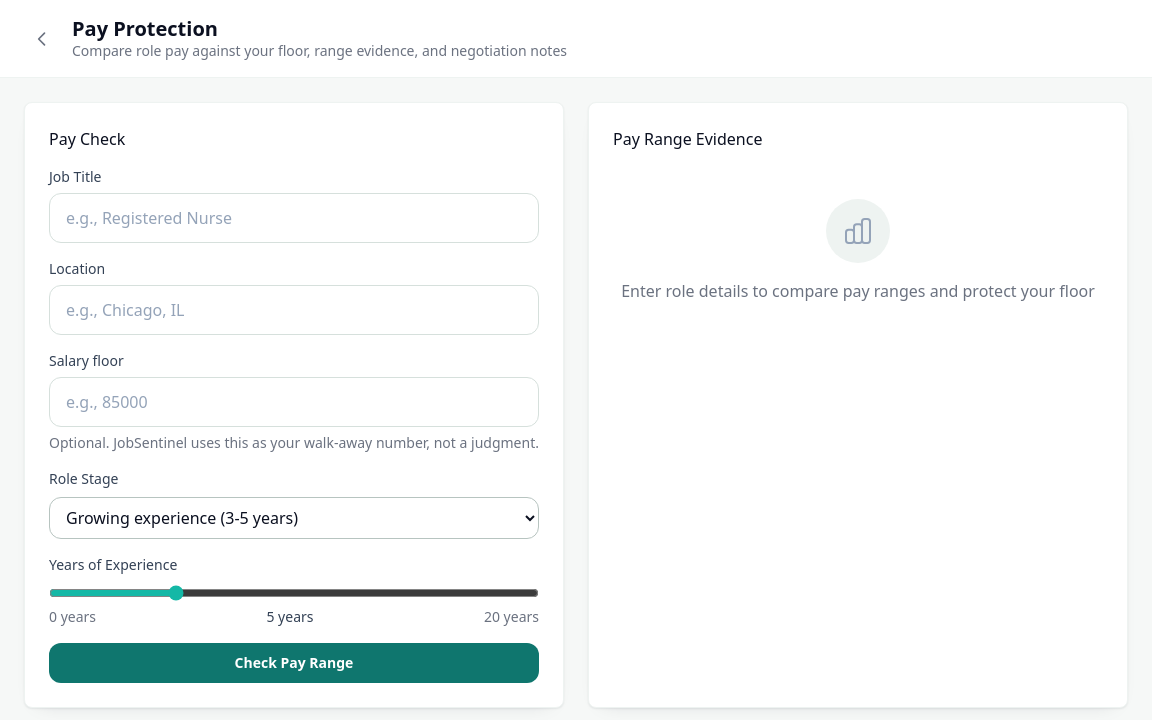
Test: Salary › labels thin salary samples as weaker evidence
Type "Registered Nurse" into the field labelled "Job Title".
click(294, 218); type("Registered Nurse")  # box [49, 193, 539, 243]
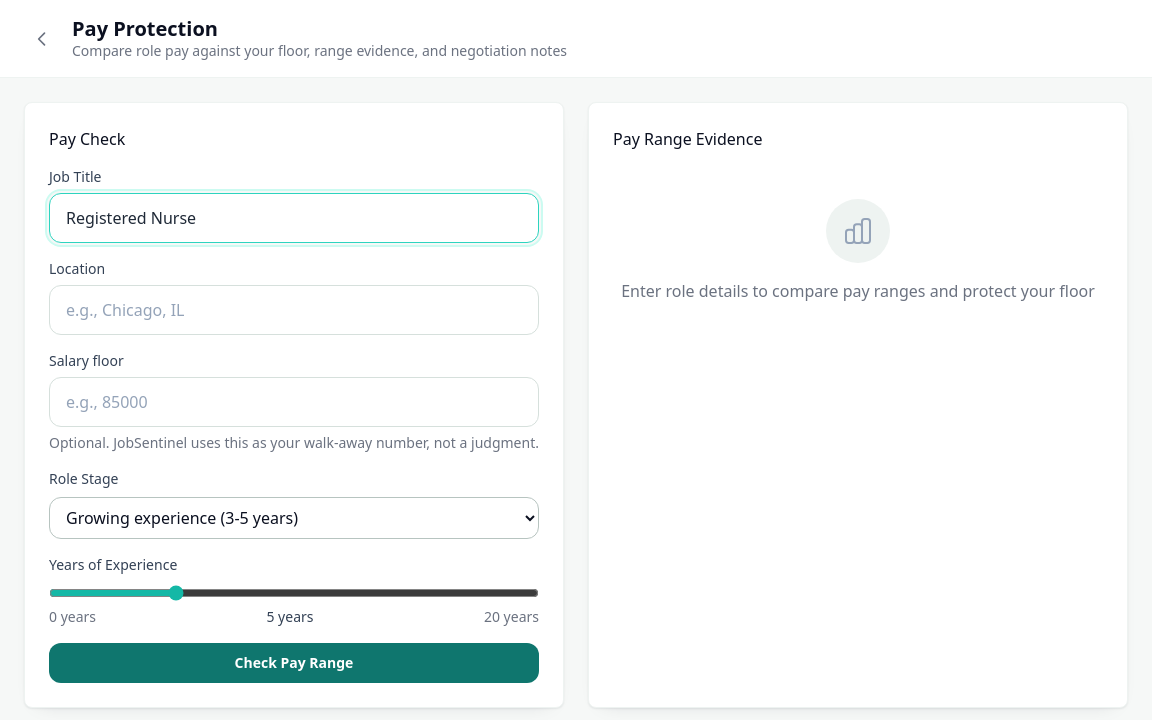
Type "Denver, CO" into the field labelled "Location".
click(294, 310); type("Denver, CO")  # box [49, 285, 539, 335]
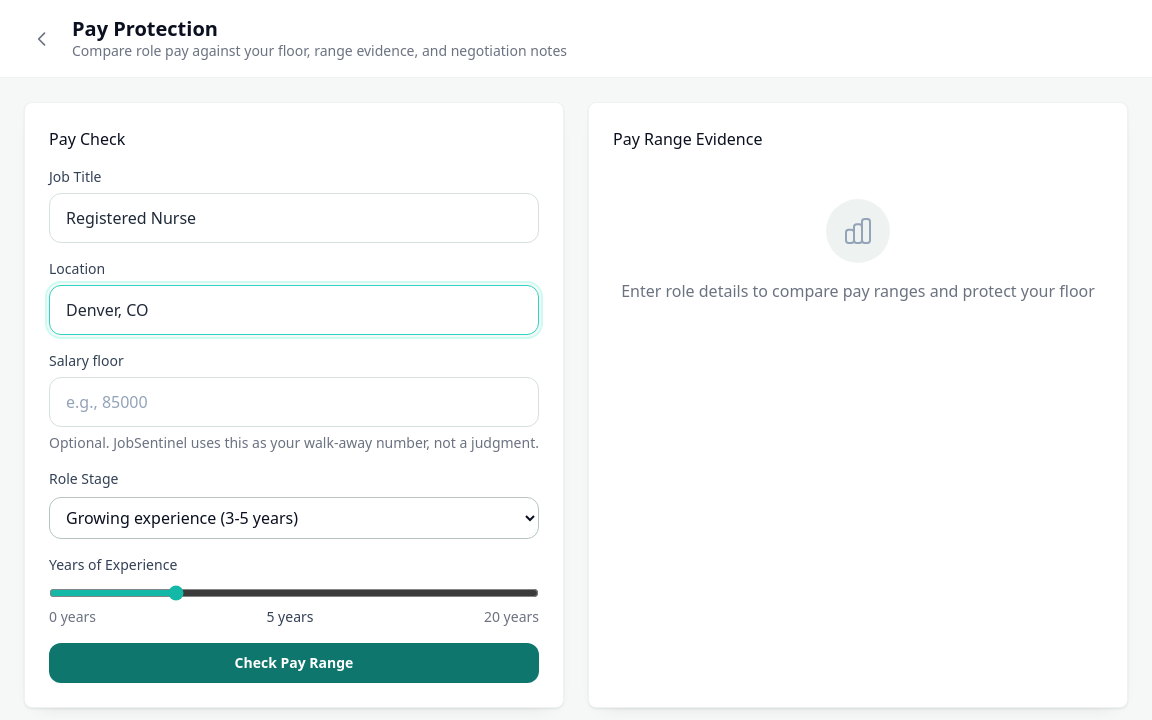
Click the button "Check Pay Range".
click(294, 663)  # box [49, 643, 539, 683]
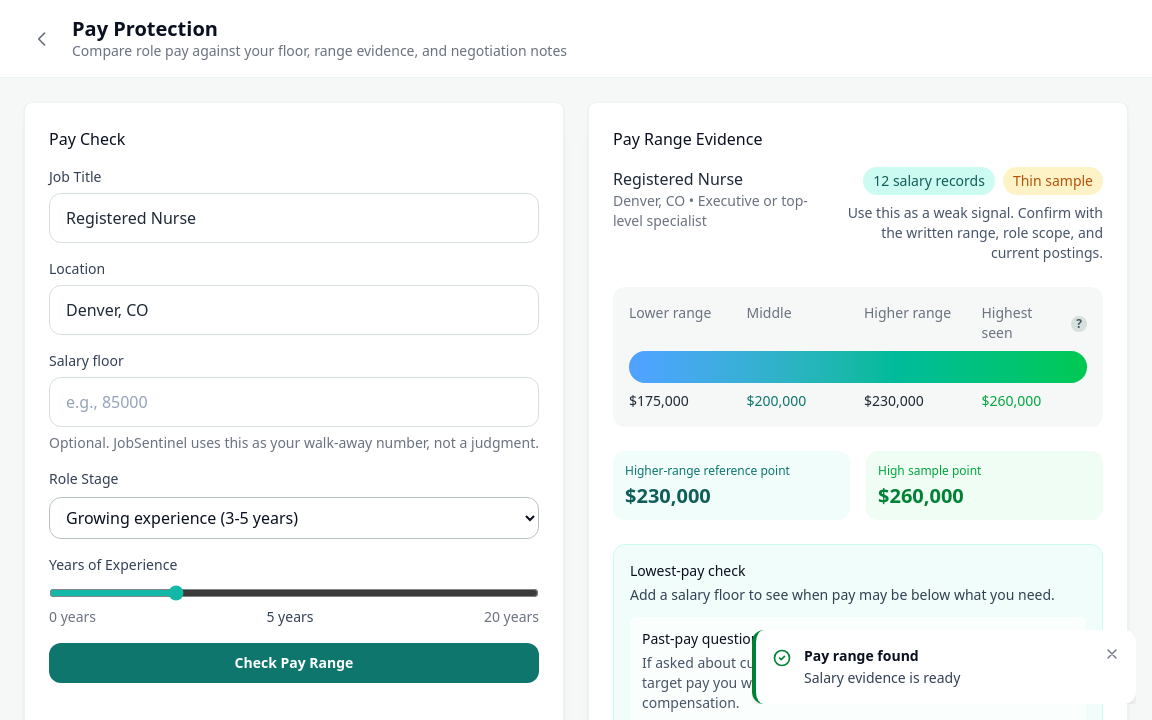
expect the text "12 salary records" is shown: met, box [863, 167, 995, 195]
expect the text "Thin sample" is shown: met, box [1003, 167, 1103, 195]
expect the text "Use this as a weak signal" is shown: met, box [848, 203, 1103, 262]
